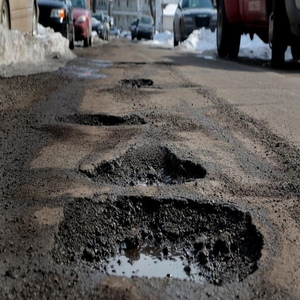pothole: (52, 193, 269, 285), (83, 145, 208, 187), (56, 110, 148, 130), (118, 77, 157, 88)
